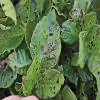Potato leaf early blight: (29, 7, 62, 72), (36, 69, 65, 97), (27, 53, 40, 94), (61, 20, 80, 45), (85, 23, 99, 56), (70, 0, 92, 21), (89, 55, 99, 99), (78, 45, 89, 67)
